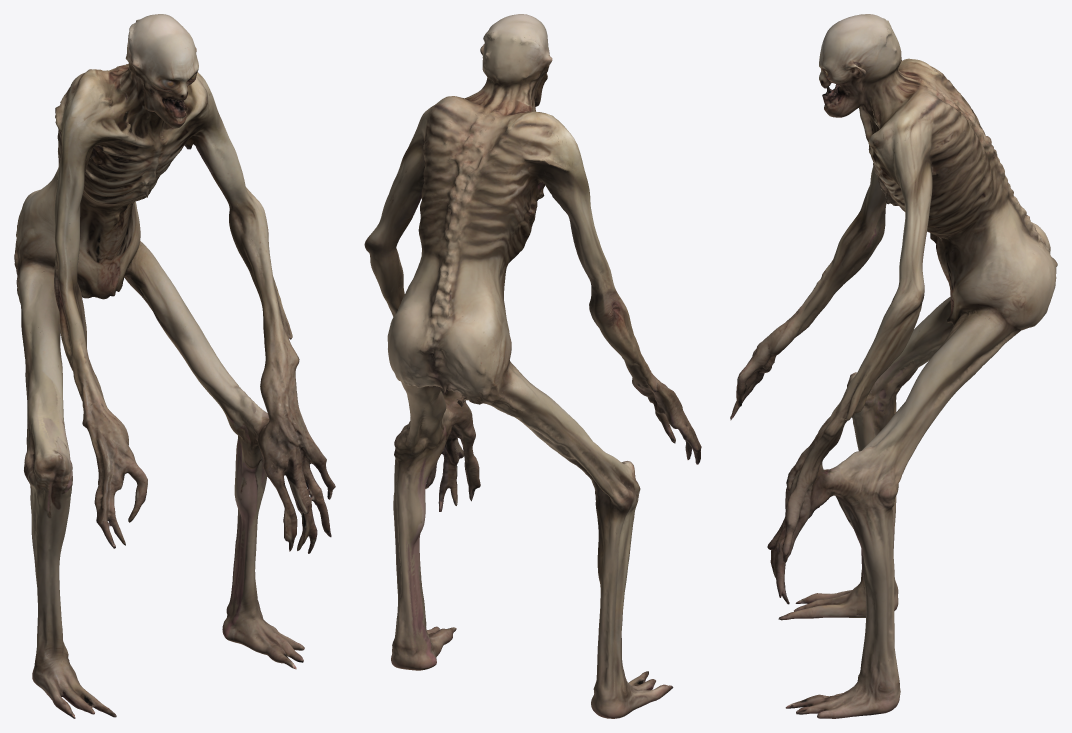
Rendered from человек_у_ко_0828200815_texture.glb.
3 renders of one model, left to right at view 1: azimuth 30°, elevation 25°; view 2: azimuth 150°, elevation 25°; view 3: azimuth 270°, elevation 25°, orthographic. The views are drawn at different scales.
Size of the model in its own units: 0.8397 by 1.99 by 0.9182.
Materials: 1 (1 with a texture image).
